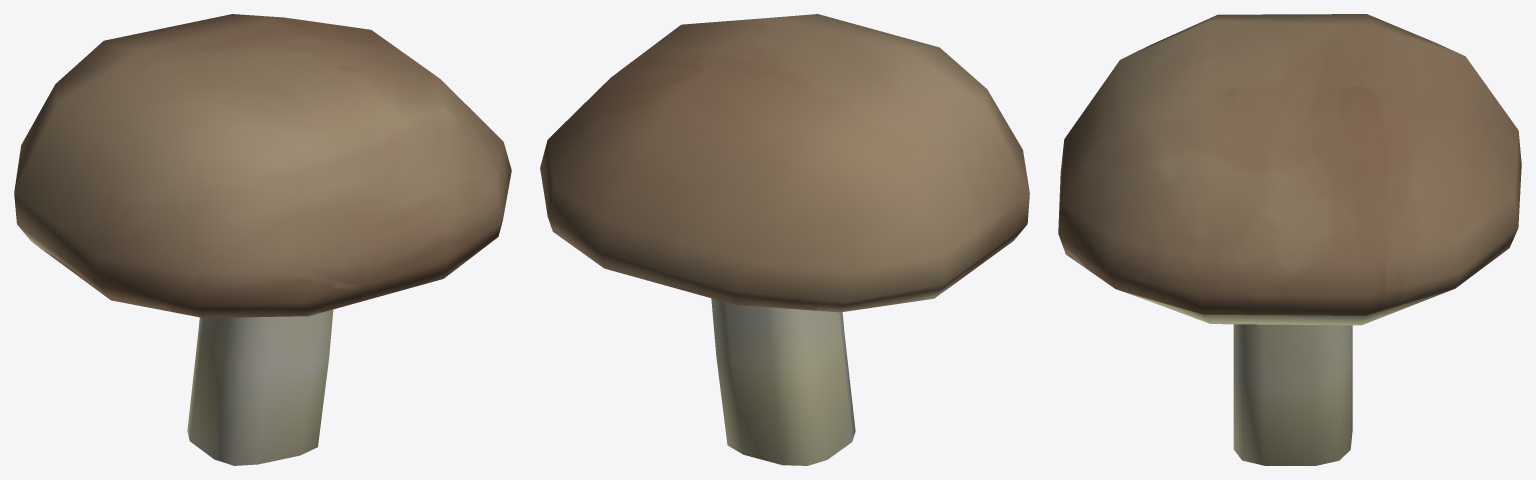
File: MushroomBall2_Deco.fbx
3 views of the same model, side by side, from view 1: azimuth 30°, elevation 25°; view 2: azimuth 150°, elevation 25°; view 3: azimuth 270°, elevation 25° (orthographic).
Visible parts, largest first — view 1: MushroomBall2; view 2: MushroomBall2; view 3: MushroomBall2.
Part boxes in pixels (<box>): MushroomBall2: <box>14,14,511,465</box>; MushroomBall2: <box>540,14,1029,465</box>; MushroomBall2: <box>1058,14,1521,465</box>.
Size of the model in its own units: 12.3 by 11.02 by 11.9.
